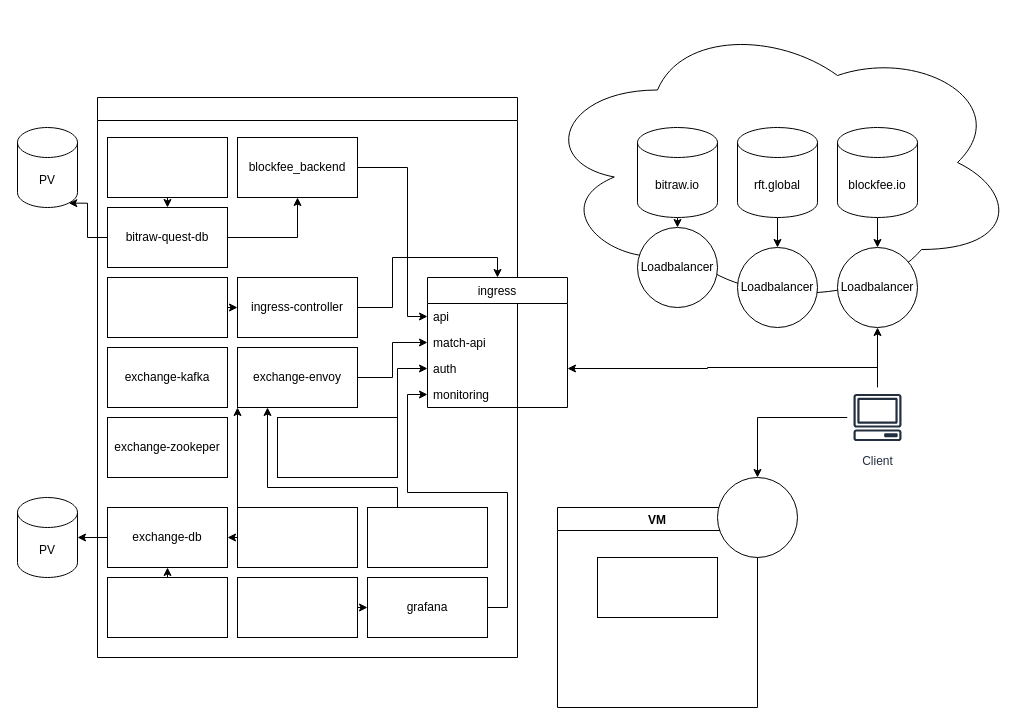
Image size: 1035x725. Some labels were removed from this diagram. The shapes that lost their labels are listed below. From the top down, each one's box as (x1, y1, x2, y2) in pixels, then its label:
(106, 136, 228, 198): commodity_manager
(106, 276, 228, 338): cert-manager
(96, 96, 518, 658): GKE
(276, 416, 398, 478): keycloak
(236, 506, 358, 568): dingir-matchengine
(366, 506, 488, 568): dingir-restapi
(716, 476, 798, 558): Loadbalancer: analytics
(106, 576, 228, 638): dingir-persistor
(236, 576, 358, 638): prometheus
(596, 556, 718, 618): matomo
